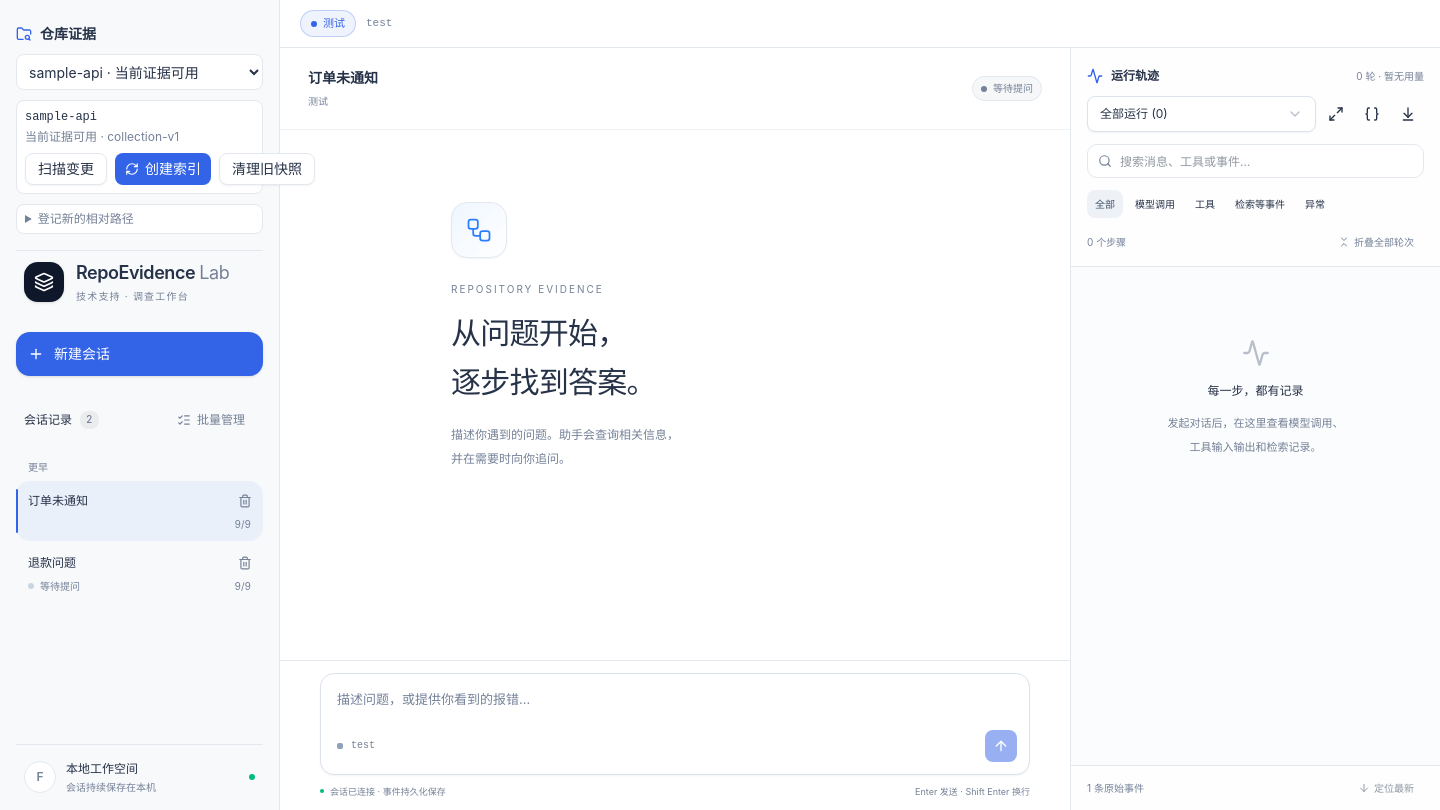
会话删除 › 多选批量删除后清空列表和当前会话
The width and height of the screenshot is (1440, 810).
Click the button "批量管理". click: (211, 420)
box: x1=167 y1=406 x2=255 y2=434
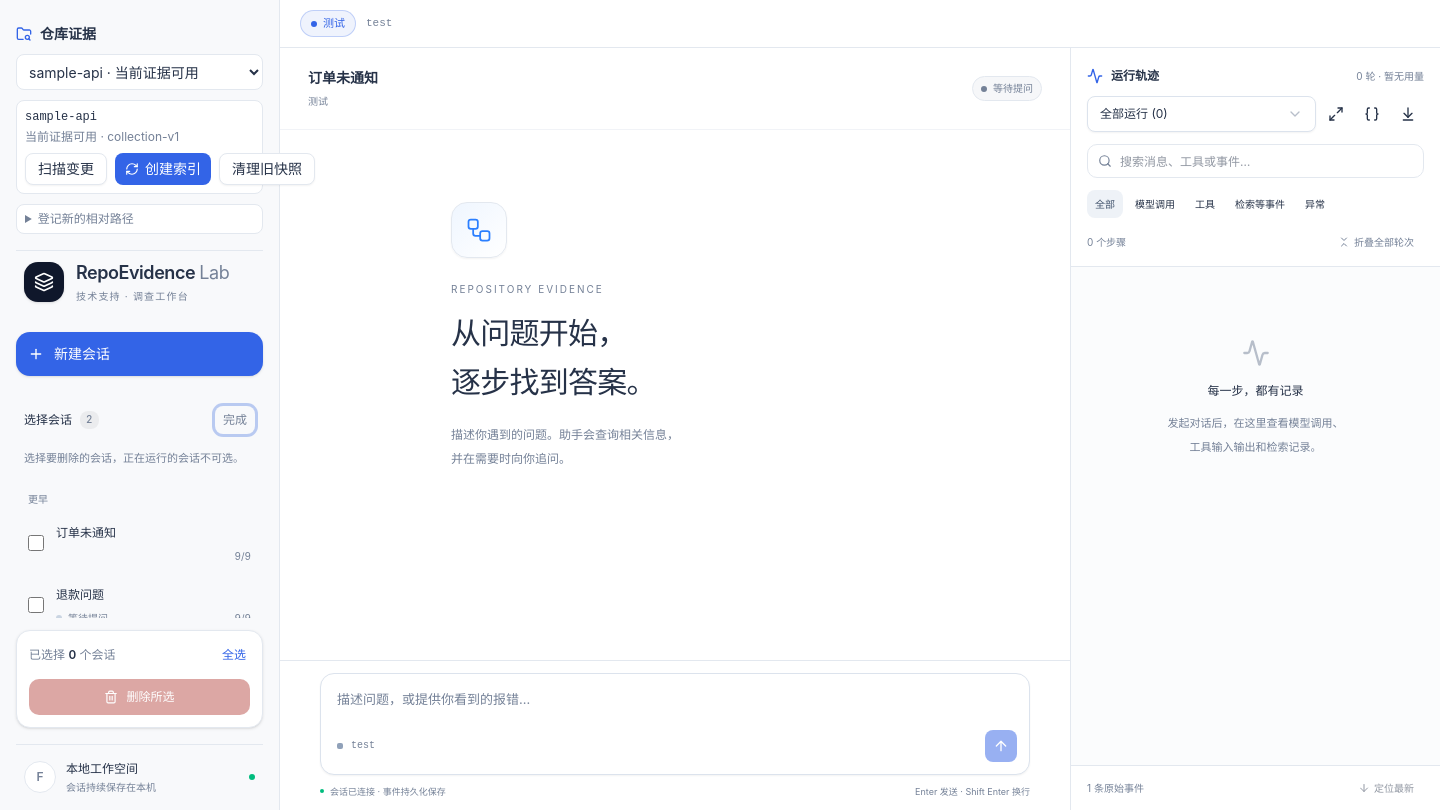
Click the checkbox named "选择会话：订单未通知". click: (36, 543)
box: x1=28 y1=535 x2=44 y2=551
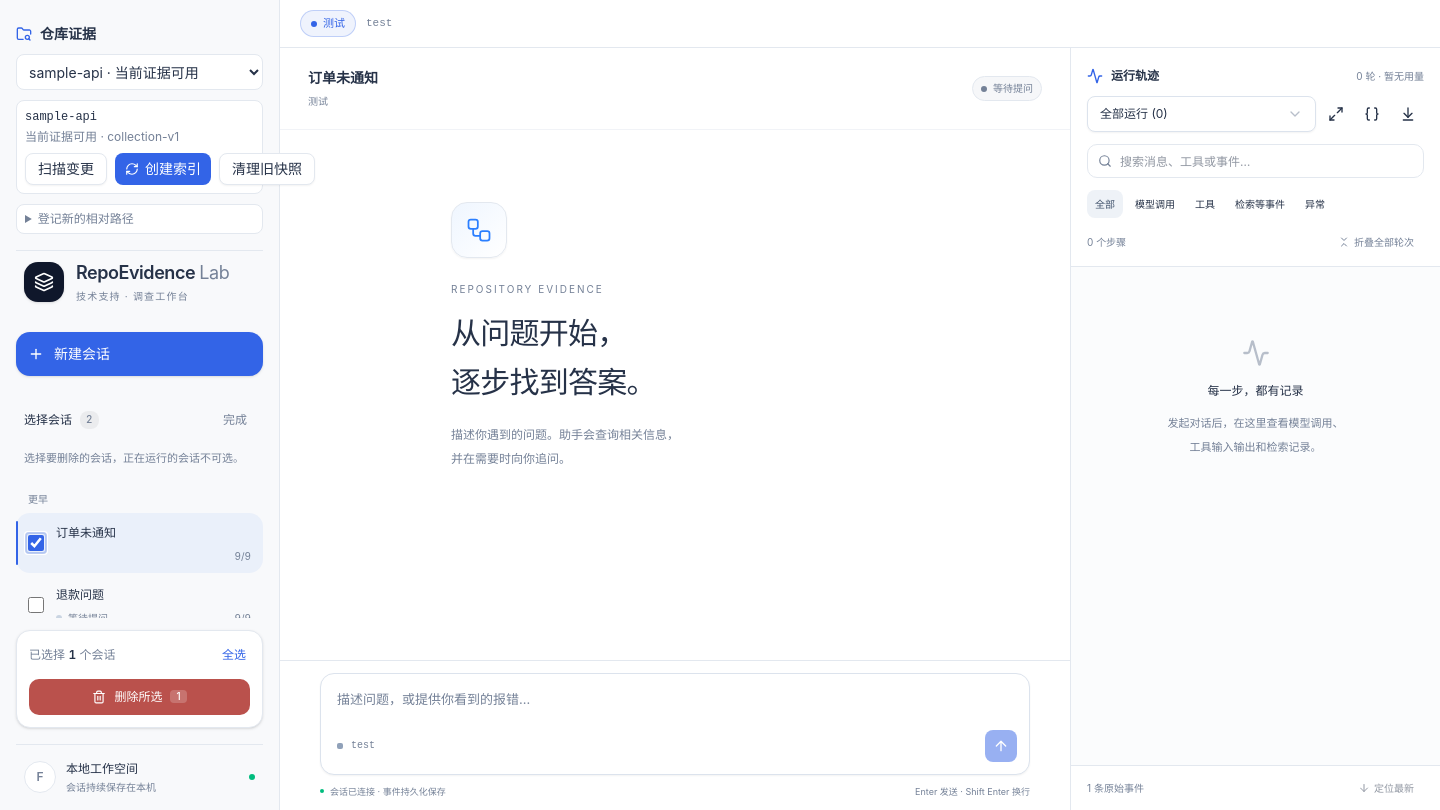
Click the checkbox named "选择会话：退款问题". click: (36, 605)
box: x1=28 y1=597 x2=44 y2=613
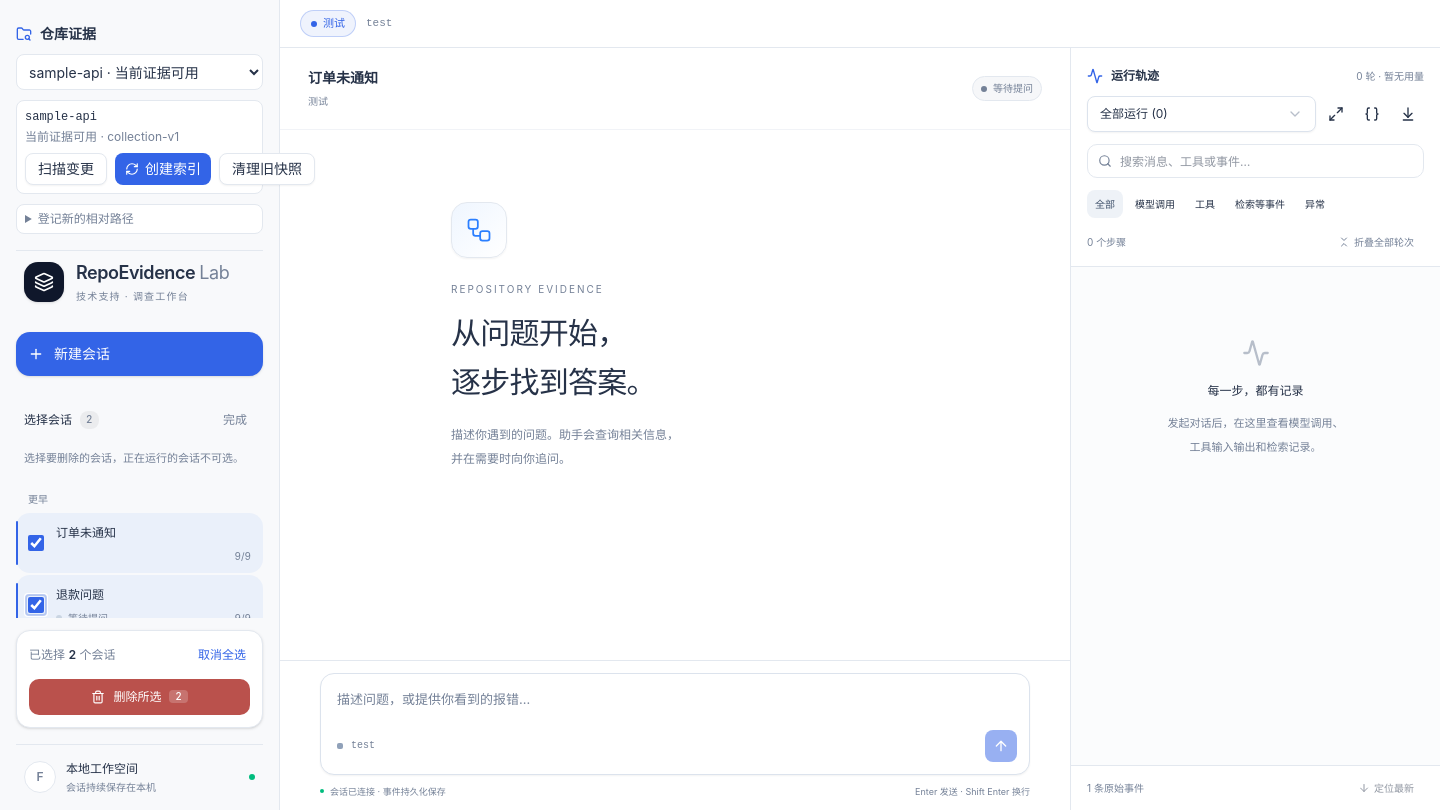
Click the button with aria-label "删除所选 (2)". click: (140, 697)
box: x1=29 y1=679 x2=250 y2=715
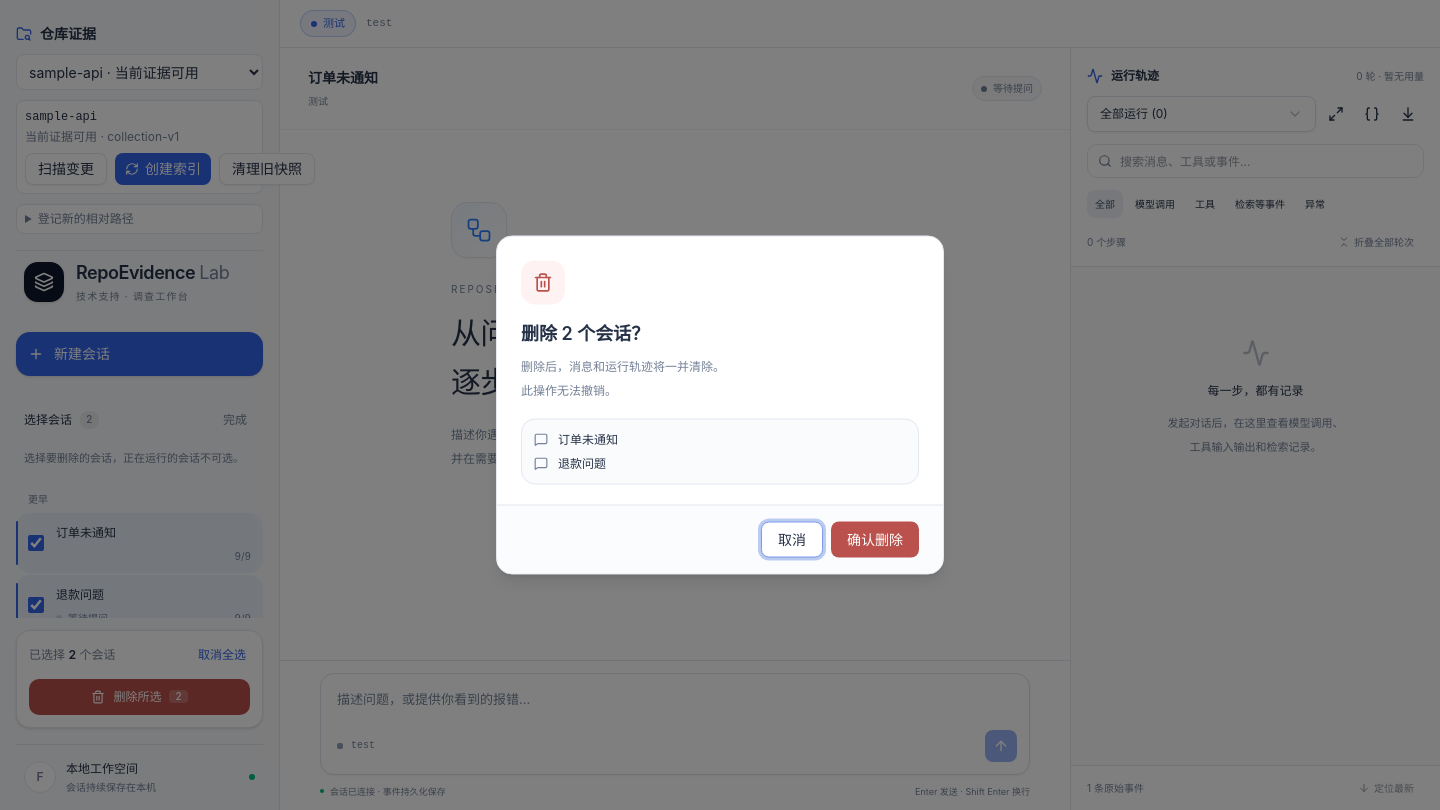
Click the button "确认删除". click: (875, 540)
box: x1=831 y1=522 x2=919 y2=558
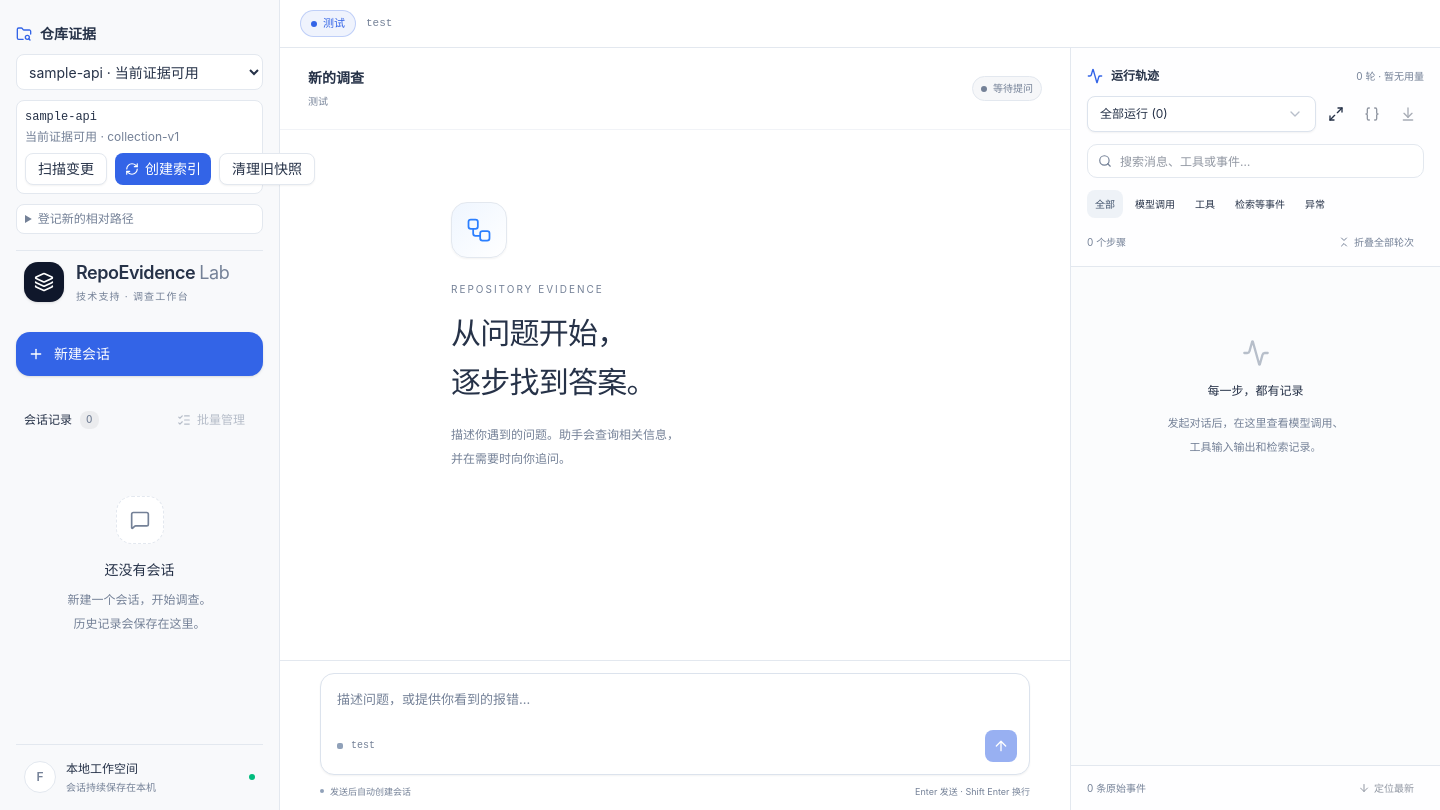
Now the checkbox labelled "选择会话：退款问题" is gone
